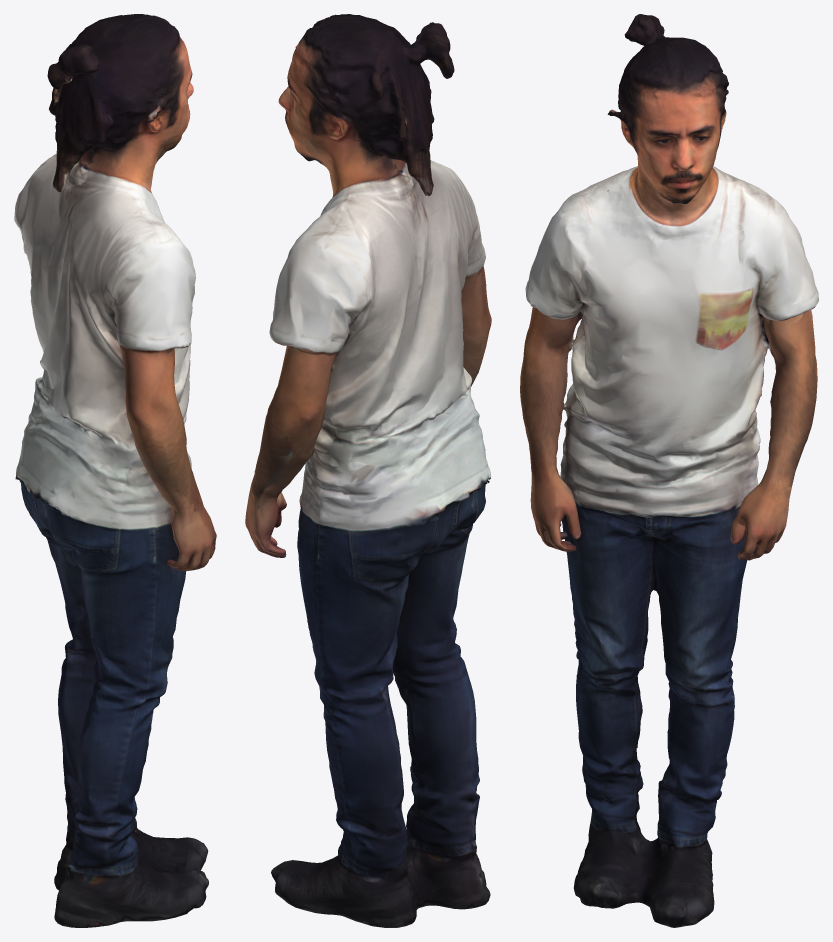
3 views of the same model, side by side, from view 1: azimuth 30°, elevation 25°; view 2: azimuth 150°, elevation 25°; view 3: azimuth 270°, elevation 25° (orthographic). The views are drawn at different scales.
Visible parts, largest first — view 1: 7a92173_00293; view 2: 7a92173_00293; view 3: 7a92173_00293.
Part boxes in pixels (bbox=[...]): 7a92173_00293: bbox=[14, 14, 216, 927]; 7a92173_00293: bbox=[245, 14, 491, 927]; 7a92173_00293: bbox=[520, 14, 818, 927].
Bounding box in the file's own units: 357 × 1573 × 503.
Materials: 1 (1 with a texture image).
